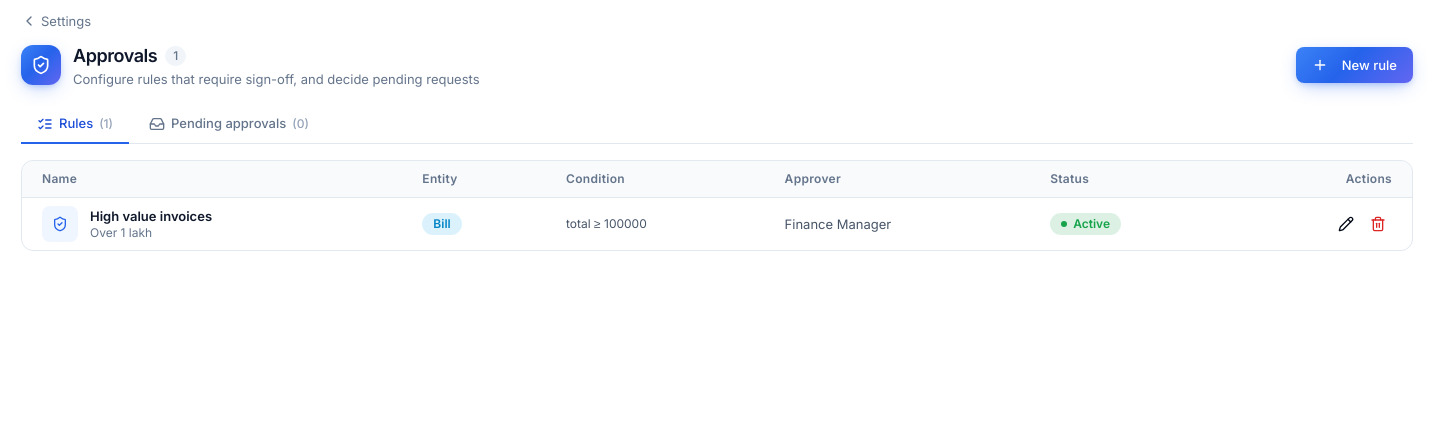
ApprovalsView › shows the pending empty state when there are no requests
The width and height of the screenshot is (1435, 425).
Click the tab "Pending approvals(0)".
click(229, 124)  # box [133, 104, 325, 144]
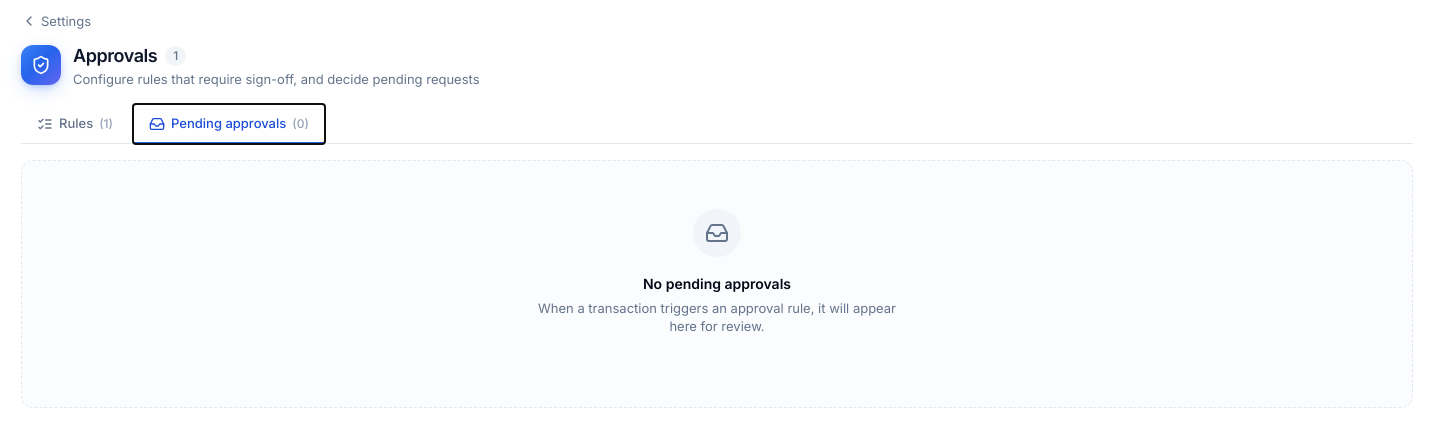
Now the heading "No pending approvals" is shown, box [643, 274, 791, 296]
